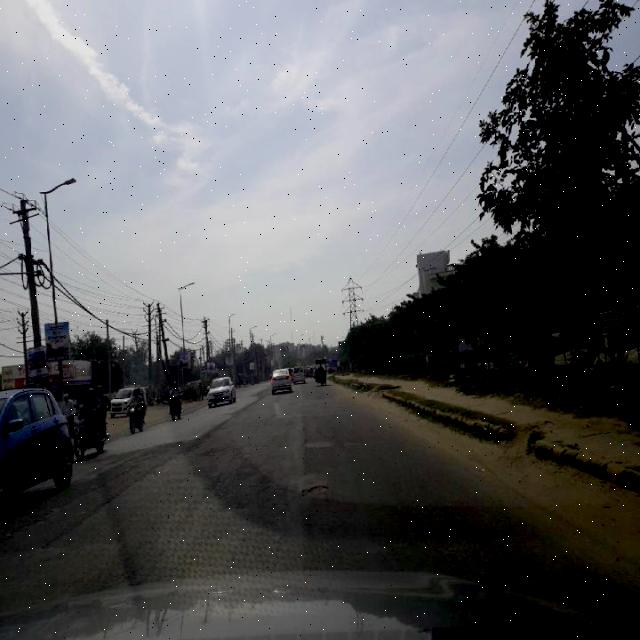D40: (297, 478, 336, 498), (191, 441, 230, 460)
